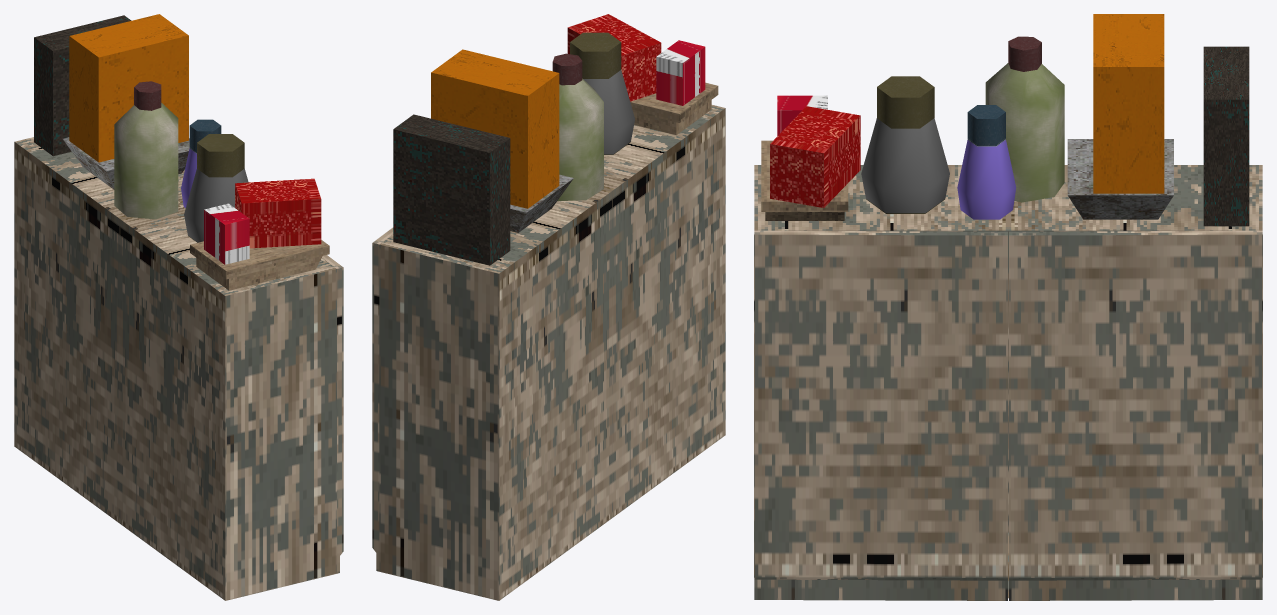
The model's file is TableTop.fbx.
3 renders of one model, left to right at view 1: azimuth 30°, elevation 25°; view 2: azimuth 150°, elevation 25°; view 3: azimuth 270°, elevation 25°, orthographic. The views are drawn at different scales.
Visible parts, largest first — view 1: TableGabarites.001TableTop_low, Cube.006TableTop_low, Cylinder.028TableTop_low, Cube.003TableTop_low, Cube.007TableTop_low, Cylinder.026TableTop_low, Cube.002TableTop_low, Cube.004TableTop_low, TableGabarites.002TableTop_low, Cube.005TableTop_low, Cylinder.027TableTop_low; view 2: TableGabarites.001TableTop_low, Cube.007TableTop_low, Cube.006TableTop_low, Cylinder.028TableTop_low, Cylinder.026TableTop_low, Cube.003TableTop_low, Cube.004TableTop_low, TableGabarites.002TableTop_low, Cube.002TableTop_low, Cube.005TableTop_low; view 3: TableGabarites.002TableTop_low, TableGabarites.001TableTop_low, Cube.006TableTop_low, Cylinder.026TableTop_low, Cylinder.028TableTop_low, Cube.007TableTop_low, Cube.003TableTop_low, Cylinder.027TableTop_low, Cube.005TableTop_low, Cube.002TableTop_low, Cube.004TableTop_low.
Part boxes in pixels (x1=…): TableGabarites.001TableTop_low: x1=14, y1=137, x2=336, y2=600; Cube.006TableTop_low: x1=69, y1=14, x2=188, y2=162; Cylinder.028TableTop_low: x1=114, y1=81, x2=178, y2=219; Cube.003TableTop_low: x1=235, y1=178, x2=321, y2=248; Cube.007TableTop_low: x1=34, y1=15, x2=131, y2=156; Cylinder.026TableTop_low: x1=184, y1=134, x2=248, y2=242; Cube.002TableTop_low: x1=190, y1=240, x2=329, y2=290; Cube.004TableTop_low: x1=204, y1=203, x2=249, y2=264; TableGabarites.002TableTop_low: x1=322, y1=255, x2=343, y2=573; Cube.005TableTop_low: x1=63, y1=137, x2=189, y2=189; Cylinder.027TableTop_low: x1=181, y1=119, x2=221, y2=207; TableGabarites.001TableTop_low: x1=379, y1=105, x2=725, y2=600; Cube.007TableTop_low: x1=393, y1=114, x2=510, y2=265; Cube.006TableTop_low: x1=431, y1=49, x2=559, y2=208; Cylinder.028TableTop_low: x1=552, y1=53, x2=603, y2=201; Cylinder.026TableTop_low: x1=570, y1=32, x2=634, y2=154; Cube.003TableTop_low: x1=567, y1=14, x2=661, y2=101; Cube.004TableTop_low: x1=656, y1=40, x2=705, y2=105; TableGabarites.002TableTop_low: x1=372, y1=227, x2=393, y2=571; Cube.002TableTop_low: x1=630, y1=82, x2=718, y2=135; Cube.005TableTop_low: x1=510, y1=174, x2=573, y2=232; TableGabarites.002TableTop_low: x1=754, y1=230, x2=1262, y2=600; TableGabarites.001TableTop_low: x1=754, y1=165, x2=1262, y2=598; Cube.006TableTop_low: x1=1093, y1=14, x2=1164, y2=193; Cylinder.026TableTop_low: x1=861, y1=76, x2=949, y2=213; Cylinder.028TableTop_low: x1=985, y1=36, x2=1064, y2=202; Cube.007TableTop_low: x1=1203, y1=46, x2=1249, y2=226; Cube.003TableTop_low: x1=770, y1=106, x2=860, y2=207; Cylinder.027TableTop_low: x1=957, y1=105, x2=1016, y2=219; Cube.005TableTop_low: x1=1067, y1=139, x2=1173, y2=219; Cube.002TableTop_low: x1=761, y1=140, x2=848, y2=220; Cube.004TableTop_low: x1=777, y1=95, x2=827, y2=135.
Size of the model in its own units: 37.2 by 130 by 113.
Materials: 10 (10 with a texture image).
